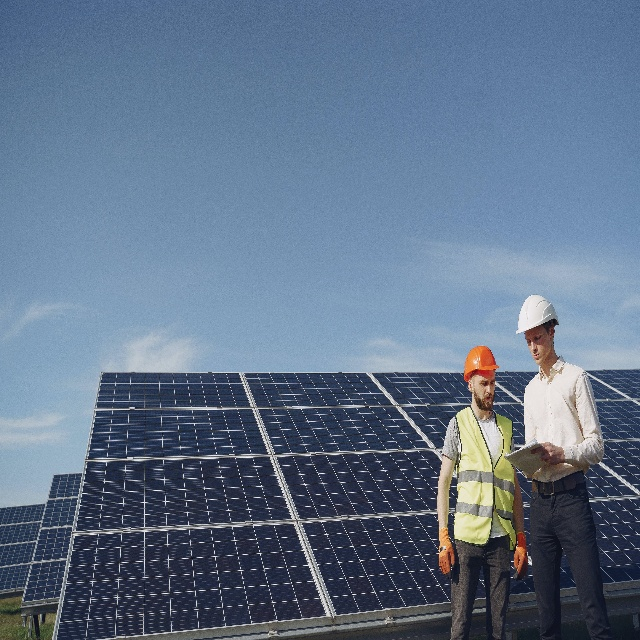Guantes: (438, 526, 457, 582), (512, 531, 528, 582)
Sin_guantes: (529, 442, 565, 467)
